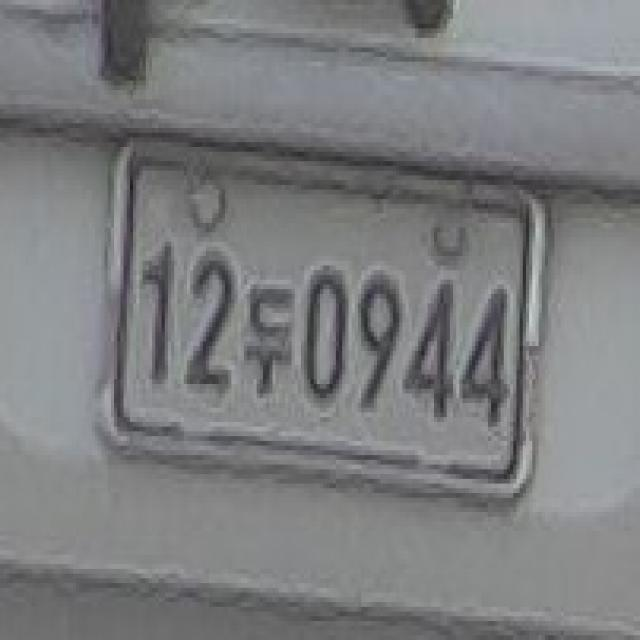0: (298, 256, 355, 427)
1: (130, 237, 180, 398)
2: (184, 242, 244, 412)
4: (460, 284, 520, 432), (406, 275, 460, 436)
9: (352, 256, 408, 422)
du: (238, 256, 301, 412)
license_plate: (92, 119, 542, 512)
